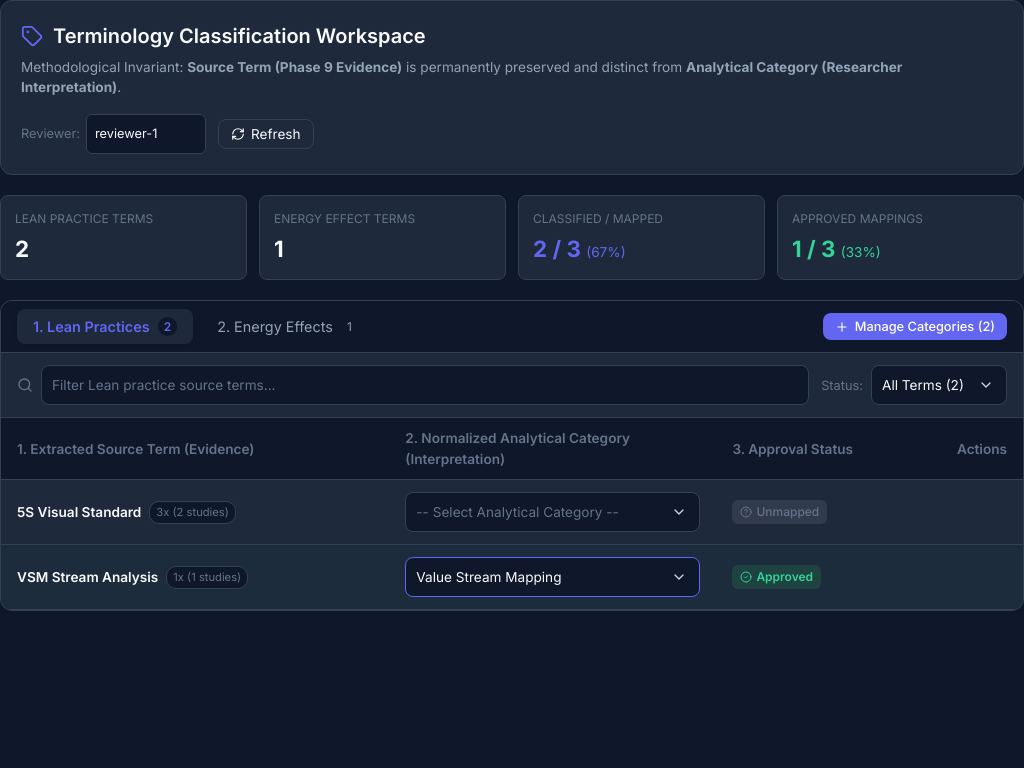
Scenario: ClassificationWorkspace › switches to Energy Effects tab and shows energy terms
Expected: the text "5S Visual Standard" is shown, [17, 502, 141, 522]
Click the button with test id "energy-tab-btn": (287, 327) [201, 309, 374, 344]
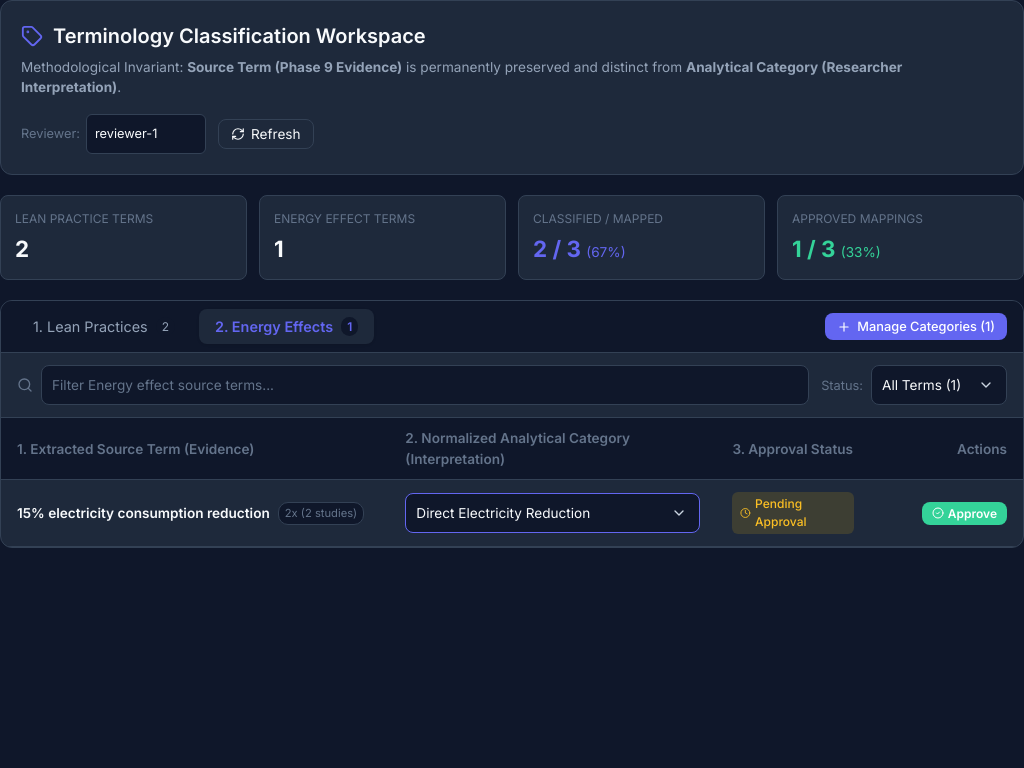
Expected: the text "15% electricity consumption reduction" is shown, [17, 503, 270, 523]
